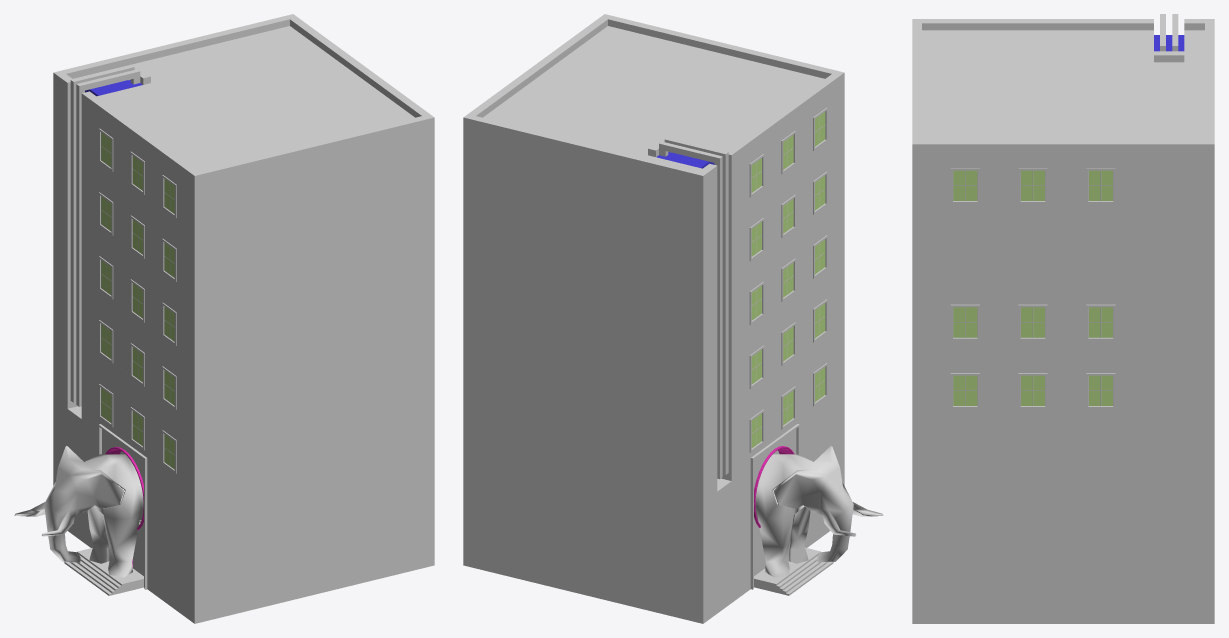
The model's file is elephent.dae.
3 renders of one model, left to right at view 1: azimuth 30°, elevation 25°; view 2: azimuth 150°, elevation 25°; view 3: azimuth 270°, elevation 25°, orthographic. The views are drawn at different scales.
Parts seen in each view (by area): view 1: Elephant Faceted OBJ, Elephant Faceted OBJ.001; view 2: Elephant Faceted OBJ, Elephant Faceted OBJ.001; view 3: Elephant Faceted OBJ.
Part boxes in pixels (left/top/right/bottom): Elephant Faceted OBJ: left=53, top=14, right=434, bottom=623; Elephant Faceted OBJ.001: left=14, top=446, right=143, bottom=577; Elephant Faceted OBJ: left=463, top=14, right=844, bottom=623; Elephant Faceted OBJ.001: left=755, top=446, right=883, bottom=577; Elephant Faceted OBJ: left=912, top=14, right=1214, bottom=623.
Size of the model in its own units: 106 by 77.21 by 136.
